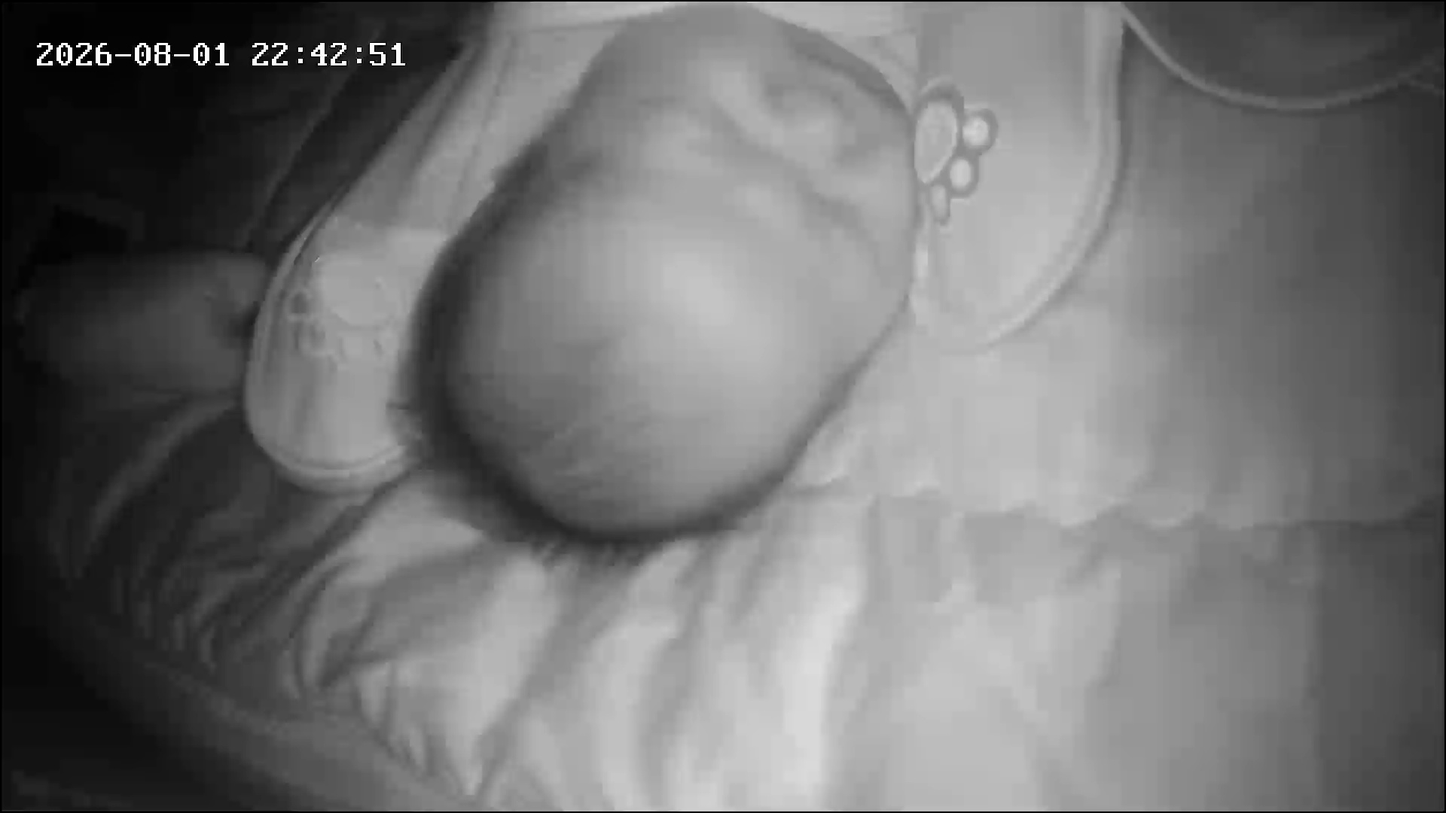baby: (362, 0, 1178, 582)
baby_face: (423, 3, 953, 567)
